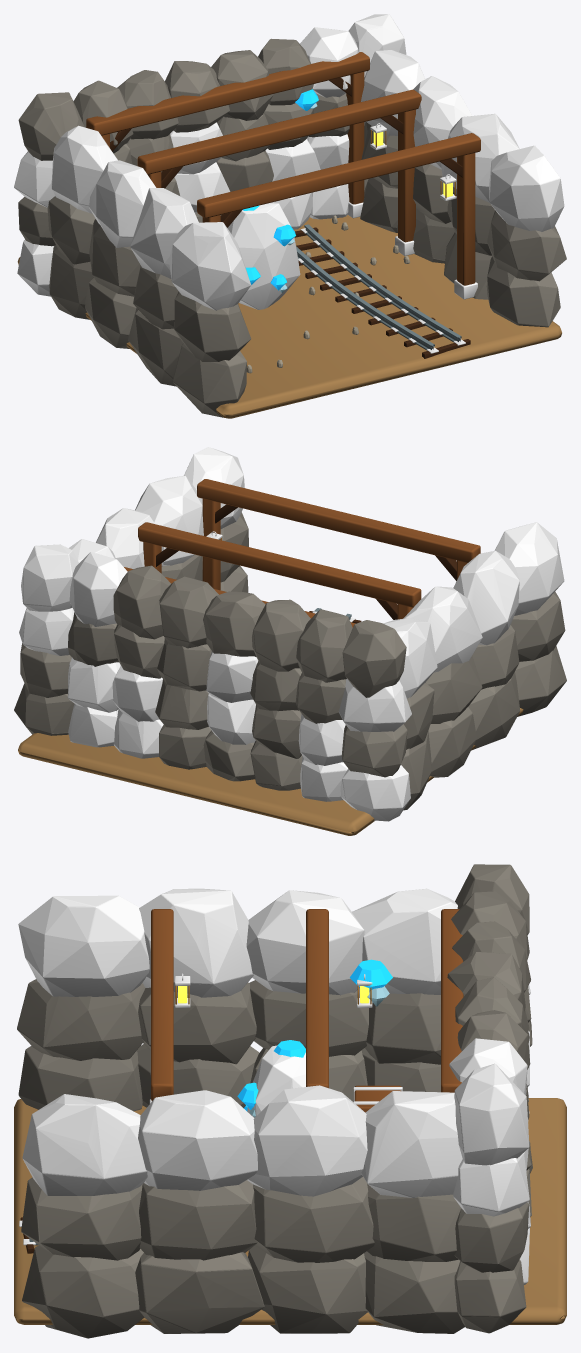
The model's file is Mine.fbx.
3 views of the same model, one above another, from view 1: azimuth 30°, elevation 25°; view 2: azimuth 150°, elevation 25°; view 3: azimuth 270°, elevation 25° (orthographic). The views are drawn at different scales.
Visible parts, largest first — view 1: Mine_Env_Stone, Mine_Env_StoneDark, Mine_Env_Soil, Mine_Env_Oak, Mine_Env_DarkOak, Mine_Env_Steel, Mine_Env_Iron, Mine_Env_GemBlue, Mine_Env_StoneLight; view 2: Mine_Env_Stone, Mine_Env_StoneDark, Mine_Env_Oak, Mine_Env_Soil, Mine_Env_DarkOak; view 3: Mine_Env_Stone, Mine_Env_StoneDark, Mine_Env_Soil, Mine_Env_Oak, Mine_Env_GemBlue, Mine_Env_Iron.
Part boxes in pixels (bbox=[...]): Mine_Env_Stone: bbox=[18, 38, 566, 417]; Mine_Env_StoneDark: bbox=[14, 14, 564, 310]; Mine_Env_Soil: bbox=[17, 215, 561, 418]; Mine_Env_Oak: bbox=[86, 52, 480, 285]; Mine_Env_DarkOak: bbox=[110, 77, 470, 358]; Mine_Env_Steel: bbox=[296, 224, 461, 349]; Mine_Env_Iron: bbox=[298, 123, 477, 353]; Mine_Env_GemBlue: bbox=[243, 89, 318, 290]; Mine_Env_StoneLight: bbox=[246, 215, 410, 373]; Mine_Env_Stone: bbox=[14, 512, 566, 810]; Mine_Env_StoneDark: bbox=[19, 447, 564, 821]; Mine_Env_Oak: bbox=[124, 479, 480, 627]; Mine_Env_Soil: bbox=[18, 708, 523, 835]; Mine_Env_DarkOak: bbox=[156, 504, 456, 623]; Mine_Env_Stone: bbox=[17, 864, 532, 1338]; Mine_Env_StoneDark: bbox=[18, 888, 530, 1284]; Mine_Env_Soil: bbox=[14, 1098, 566, 1324]; Mine_Env_Oak: bbox=[151, 909, 463, 1112]; Mine_Env_GemBlue: bbox=[237, 959, 392, 1111]; Mine_Env_Iron: bbox=[19, 973, 402, 1245].
Size of the model in its own units: 8.77 by 4.22 by 8.2.
